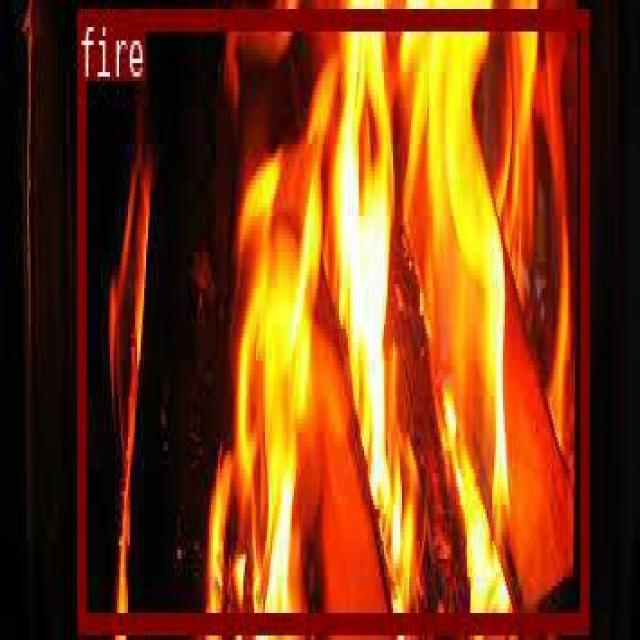fire: (77, 6, 588, 629)
